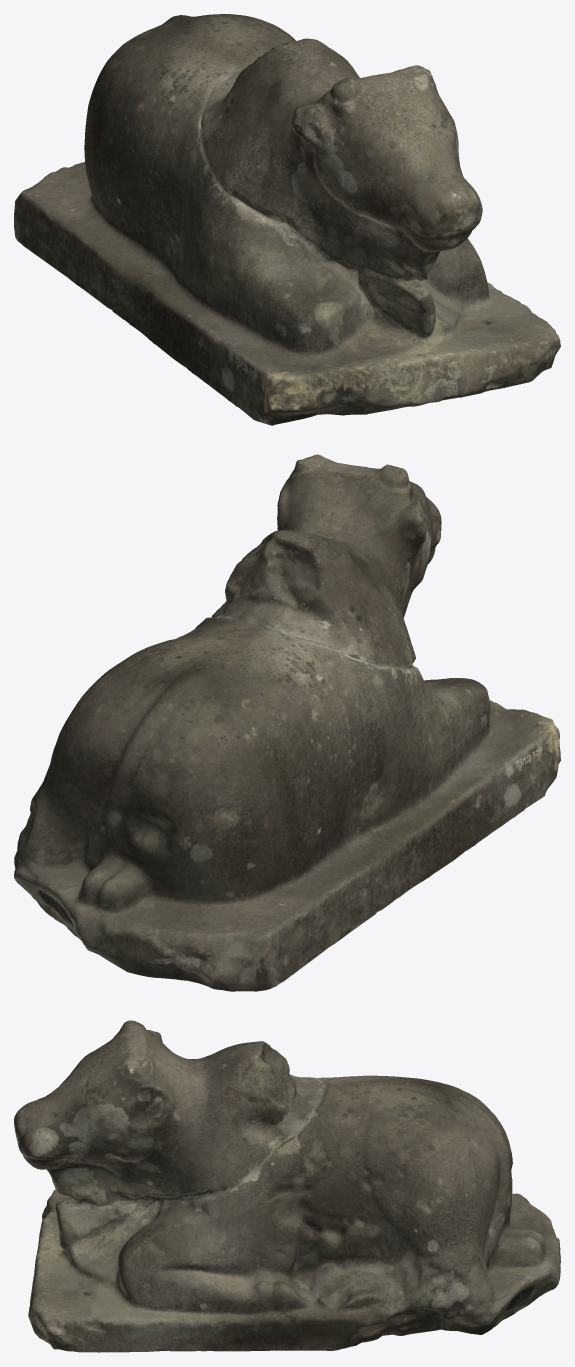
The model's file is MysonMuseum_BothanNandin_final.glb.
The picture shows the model from 3 angles, top to bottom: view 1: azimuth 30°, elevation 25°; view 2: azimuth 150°, elevation 25°; view 3: azimuth 270°, elevation 25°; orthographic projection. The views are drawn at different scales.
Bounding box in the file's own units: 0.4486 × 0.4401 × 0.8426.
Materials: 1 (1 with a texture image).
